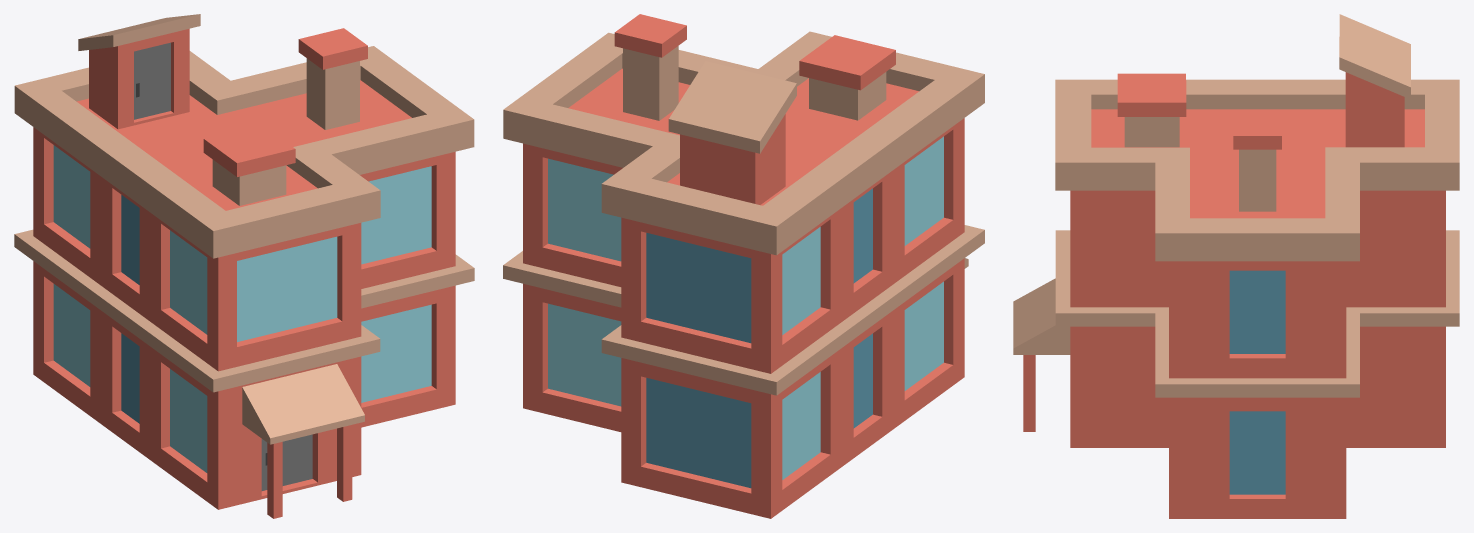
The model's file is House 3.3.fbx.
The picture shows the model from 3 angles, left to right: view 1: azimuth 30°, elevation 25°; view 2: azimuth 150°, elevation 25°; view 3: azimuth 270°, elevation 25°; orthographic projection. The views are drawn at different scales.
Parts seen in each view (by area): view 1: House_Type3_3; view 2: House_Type3_3; view 3: House_Type3_3.
Boxes of the visible parts, x1,y1,x2,y2 form: House_Type3_3: (14,14,474,518); House_Type3_3: (503,14,984,518); House_Type3_3: (1013,14,1459,518).
Bounding box in the file's own units: 664 × 759 × 814.
